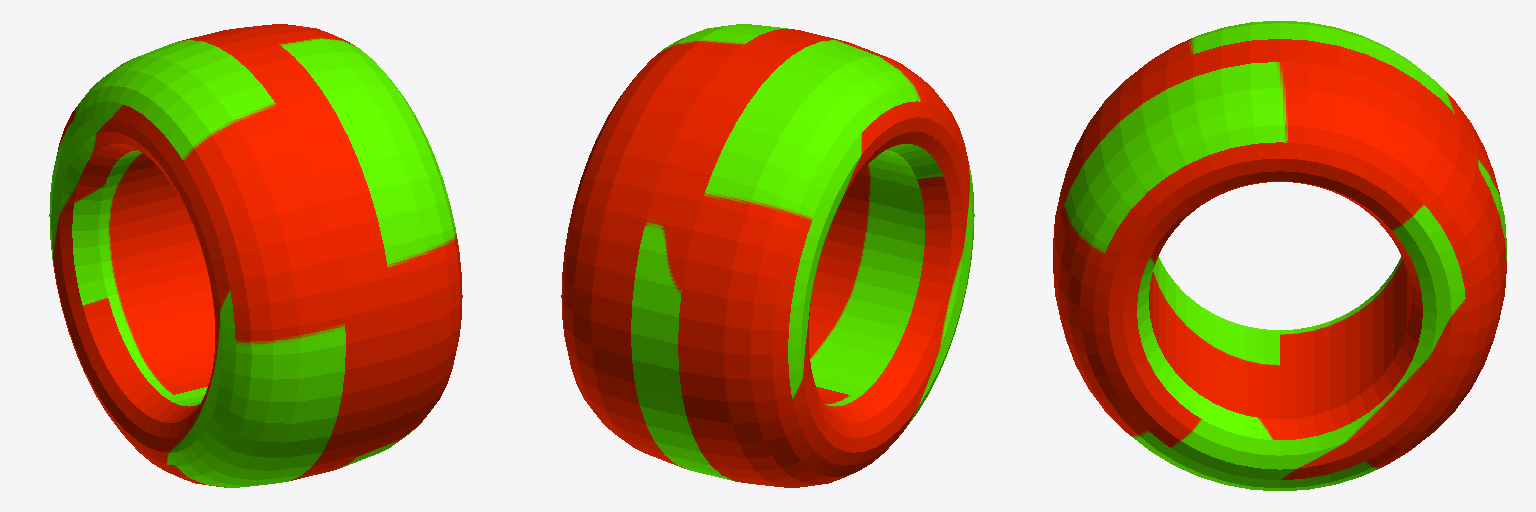
The picture shows the model from 3 angles: view 1: azimuth 30°, elevation 25°; view 2: azimuth 150°, elevation 25°; view 3: azimuth 270°, elevation 25°; orthographic projection.
Parts seen in each view (by area): view 1: トーラス; view 2: トーラス; view 3: トーラス.
Boxes of the visible parts, x1,y1,x2,y2 form: トーラス: [49, 24, 462, 487]; トーラス: [561, 24, 974, 487]; トーラス: [1053, 21, 1506, 490].
Size of the model in its own units: 0.6 by 0.9915 by 0.9915.
1 materials, 1 textured.